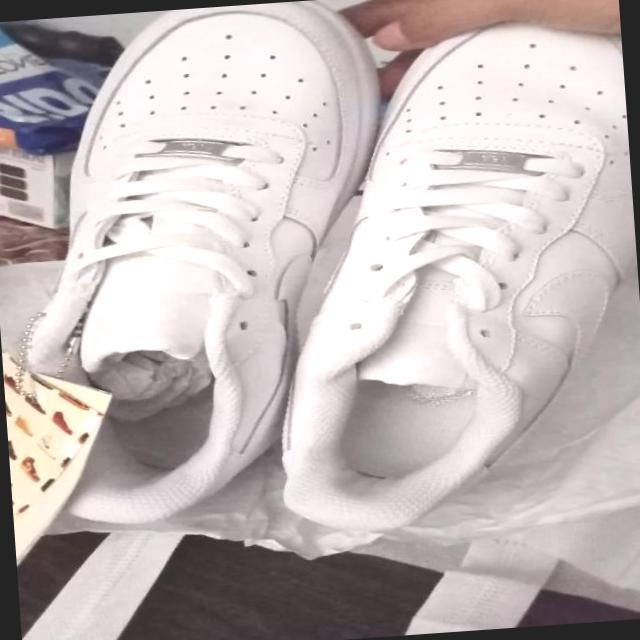nike_fake_airforce: (0, 0, 413, 537), (246, 13, 640, 538)
